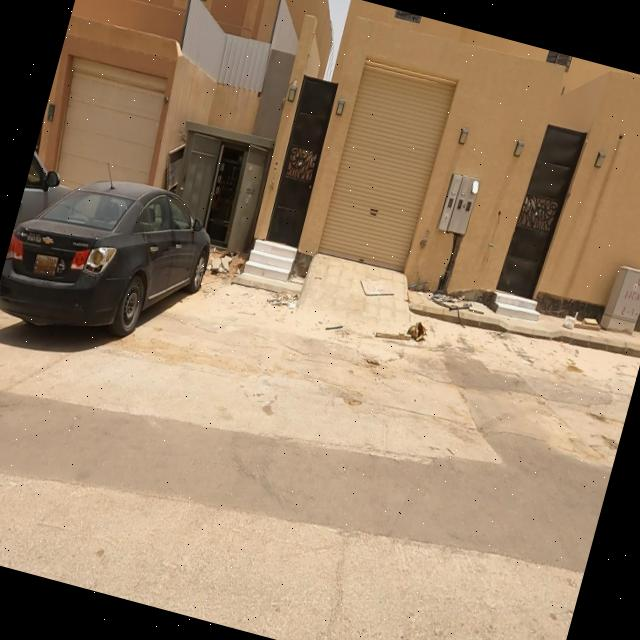Graffiti: (618, 273, 640, 322)
